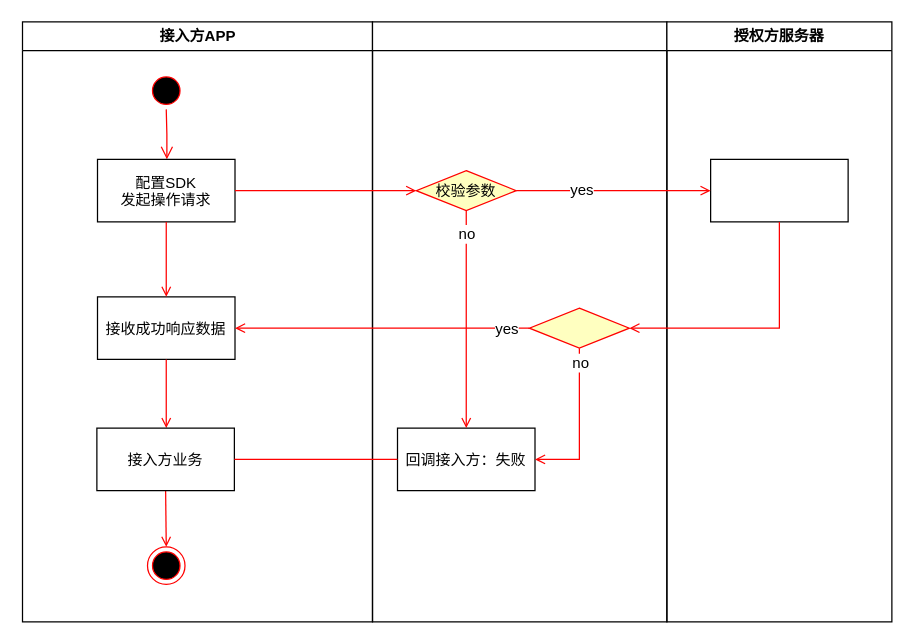
Some shapes in this 914 by 644 pixel diagram are drawn without their labels. The box of each missing label's shape, as (x1, y1, x2, y2) in pixels:
处理成功: (528, 307, 629, 348)
授权方APP: (371, 21, 667, 622)
数据处理 回执授权方: (709, 158, 848, 222)
